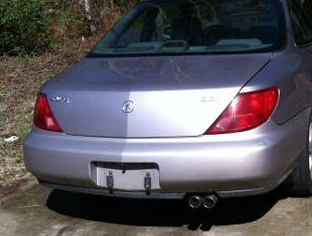acura: (20, 1, 312, 224)
